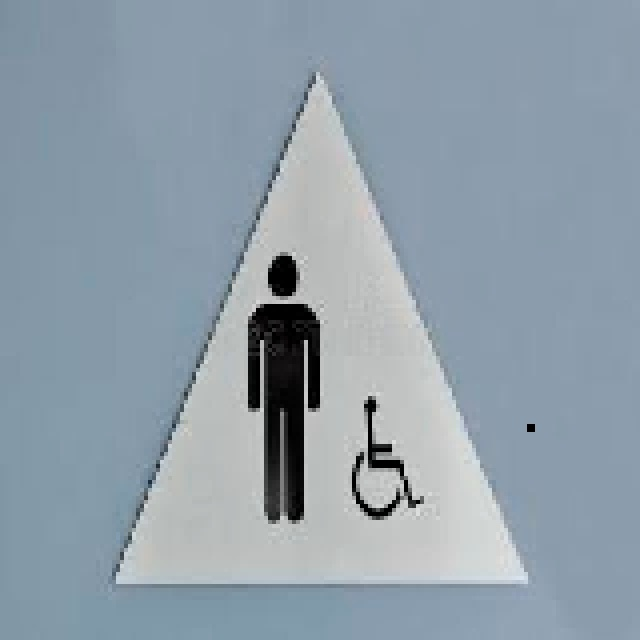ISA: (350, 392, 425, 520)
